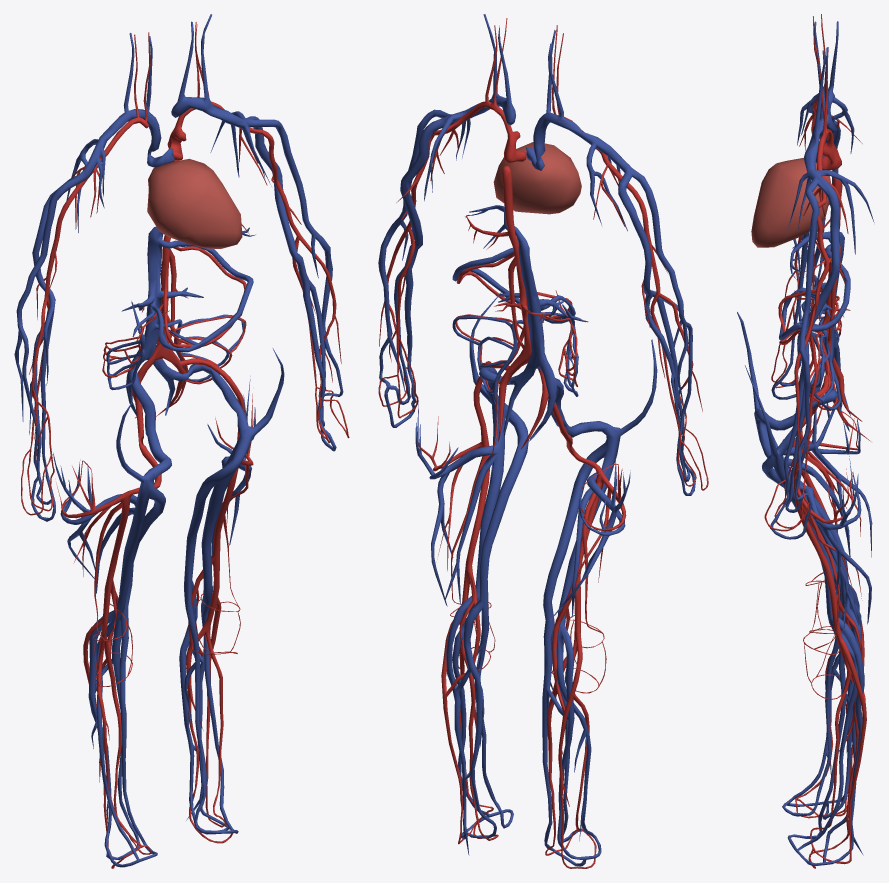
File: pediatric_infant_female.cardiovascular.LOD2.glb
The picture shows the model from 3 angles, left to right: view 1: azimuth 30°, elevation 25°; view 2: azimuth 150°, elevation 25°; view 3: azimuth 270°, elevation 25°; orthographic projection. The views are drawn at different scales.
Visible parts, largest first — view 1: PEDIATRIC.INFANT.FEMALE.CARDIOVASCULAR.BLOOD_IN_LARGE_VEINS, PEDIATRIC.INFANT.FEMALE.CARDIOVASCULAR.BLOOD_IN_LARGE_ARTERI, PEDIATRIC.INFANT.FEMALE.CARDIOVASCULAR.HEART_WALL; view 2: PEDIATRIC.INFANT.FEMALE.CARDIOVASCULAR.BLOOD_IN_LARGE_VEINS, PEDIATRIC.INFANT.FEMALE.CARDIOVASCULAR.BLOOD_IN_LARGE_ARTERI, PEDIATRIC.INFANT.FEMALE.CARDIOVASCULAR.HEART_WALL; view 3: PEDIATRIC.INFANT.FEMALE.CARDIOVASCULAR.BLOOD_IN_LARGE_VEINS, PEDIATRIC.INFANT.FEMALE.CARDIOVASCULAR.BLOOD_IN_LARGE_ARTERI, PEDIATRIC.INFANT.FEMALE.CARDIOVASCULAR.HEART_WALL.
Part boxes in pixels (bbox=[...]): PEDIATRIC.INFANT.FEMALE.CARDIOVASCULAR.BLOOD_IN_LARGE_VEINS: bbox=[14, 14, 343, 867]; PEDIATRIC.INFANT.FEMALE.CARDIOVASCULAR.BLOOD_IN_LARGE_ARTERI: bbox=[21, 22, 349, 868]; PEDIATRIC.INFANT.FEMALE.CARDIOVASCULAR.HEART_WALL: bbox=[147, 158, 242, 248]; PEDIATRIC.INFANT.FEMALE.CARDIOVASCULAR.BLOOD_IN_LARGE_VEINS: bbox=[378, 14, 695, 866]; PEDIATRIC.INFANT.FEMALE.CARDIOVASCULAR.BLOOD_IN_LARGE_ARTERI: bbox=[378, 18, 708, 868]; PEDIATRIC.INFANT.FEMALE.CARDIOVASCULAR.HEART_WALL: bbox=[493, 142, 581, 214]; PEDIATRIC.INFANT.FEMALE.CARDIOVASCULAR.BLOOD_IN_LARGE_VEINS: bbox=[737, 21, 874, 865]; PEDIATRIC.INFANT.FEMALE.CARDIOVASCULAR.BLOOD_IN_LARGE_ARTERI: bbox=[764, 14, 870, 868]; PEDIATRIC.INFANT.FEMALE.CARDIOVASCULAR.HEART_WALL: bbox=[751, 158, 831, 247].
Size of the model in its own units: 0.2563 by 0.6321 by 0.0969.
